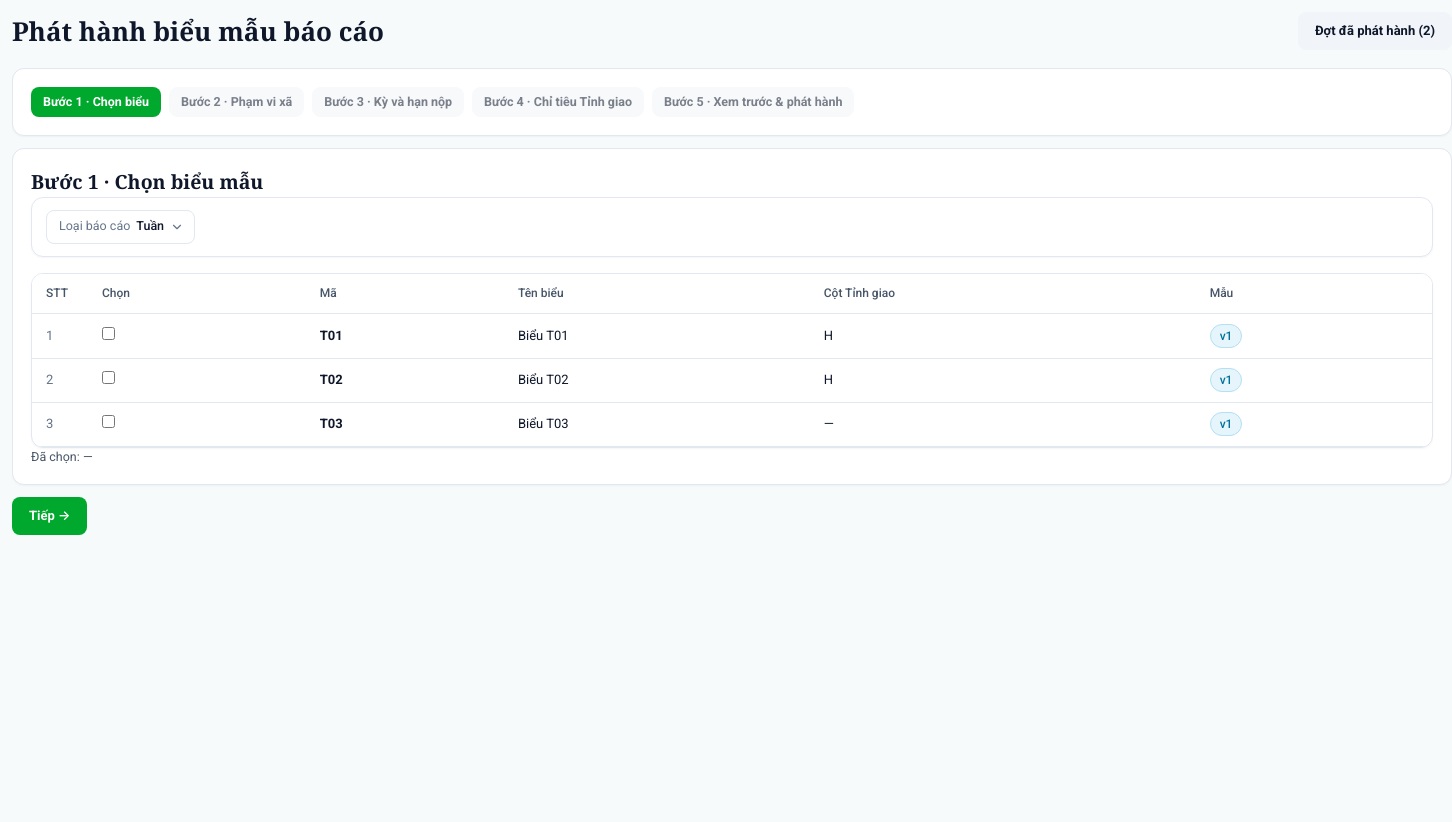
it: Phát hành biểu — wizard 5 bước (TT-14) › biểu không có cột Tỉnh giao: B4 báo không cần nhập
The width and height of the screenshot is (1452, 822).
Click the checkbox named "Chọn T03" at (108, 422), box [102,415,115,428]
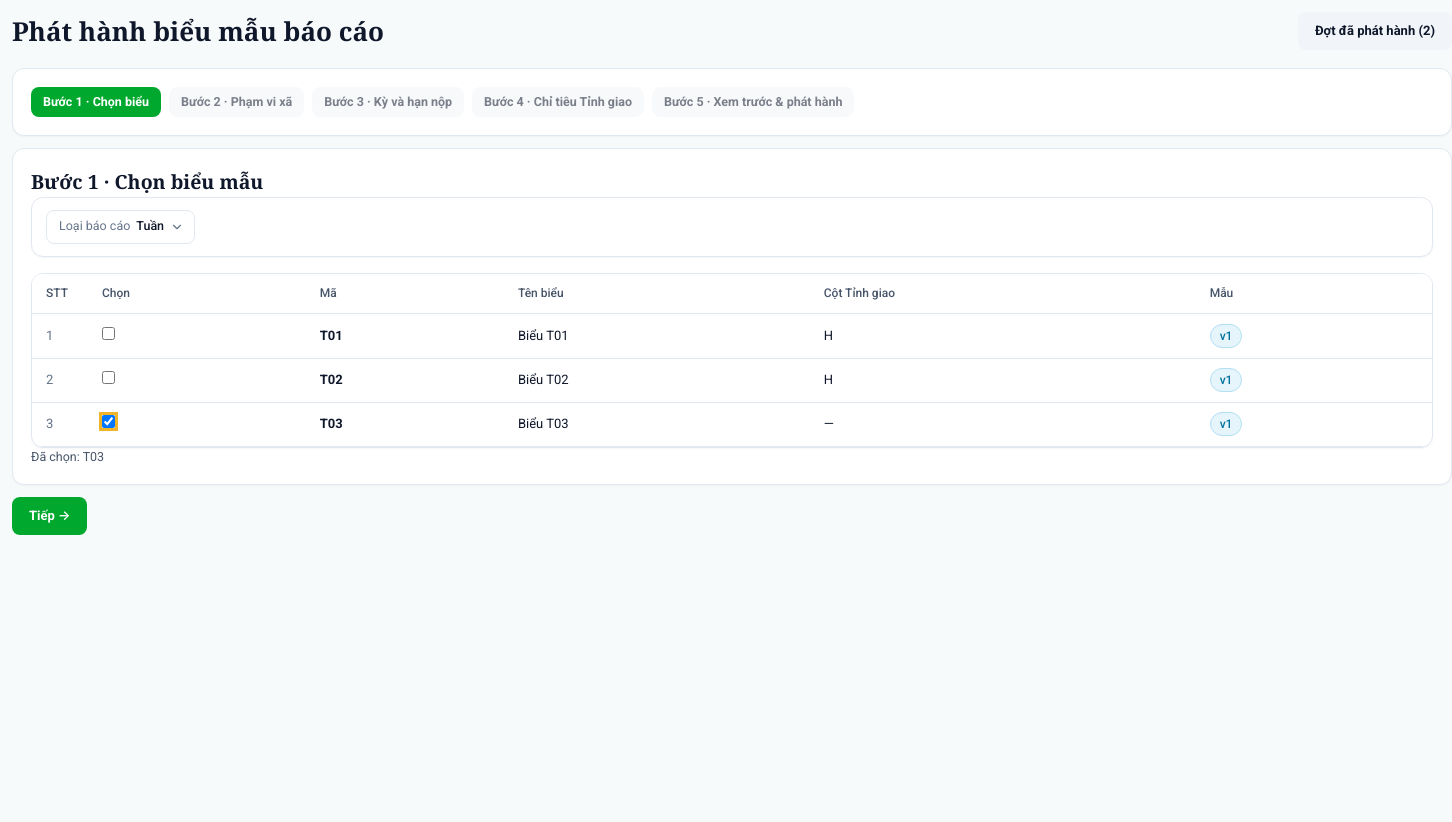
Click the button "Tiếp →" at (50, 516), box [12,497,88,535]
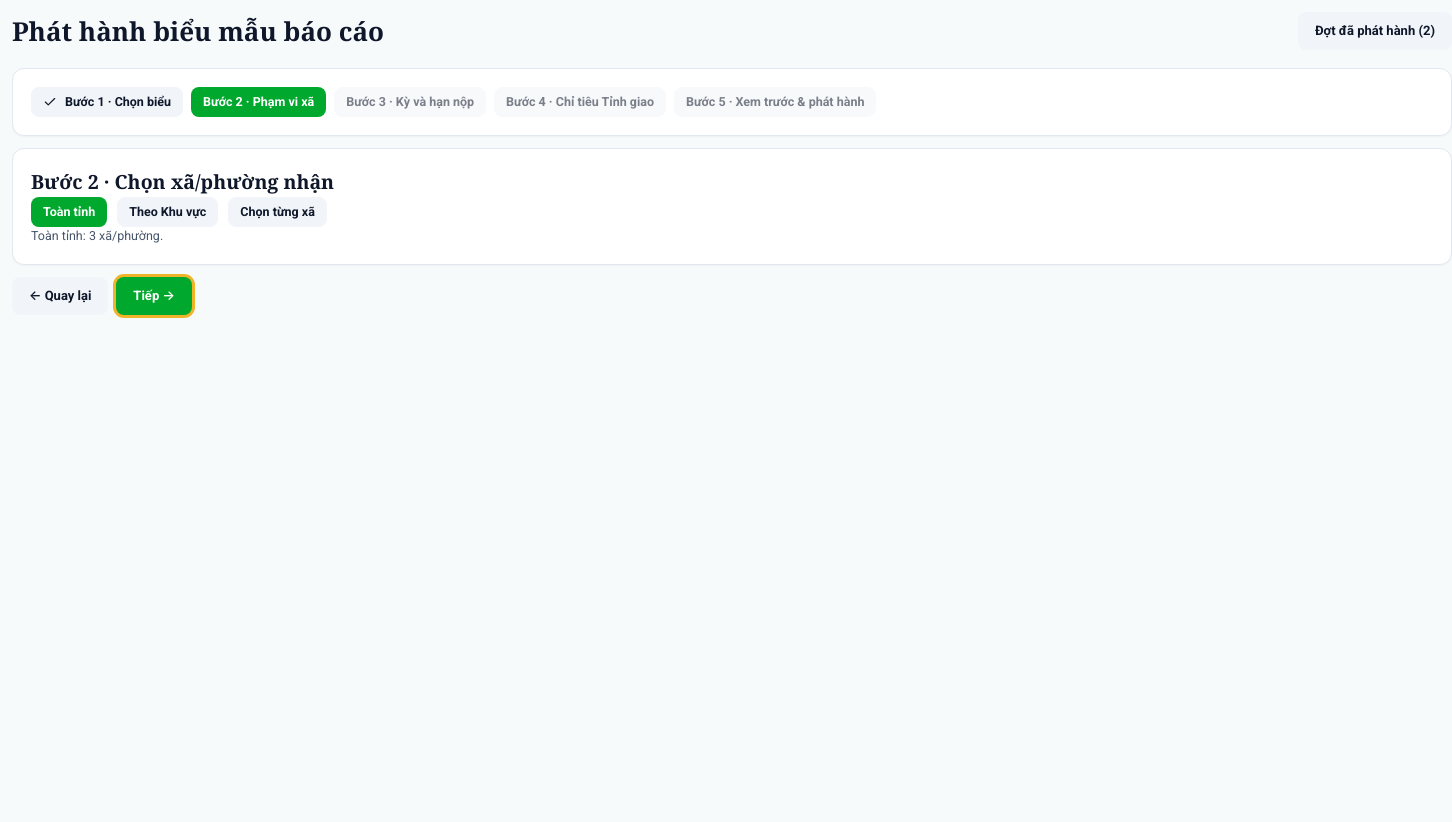
Now the text "Toàn tỉnh: 3 xã/phường." is shown, box [31,228,163,243]
Click the button "Tiếp →" at (154, 296), box [116,277,192,314]
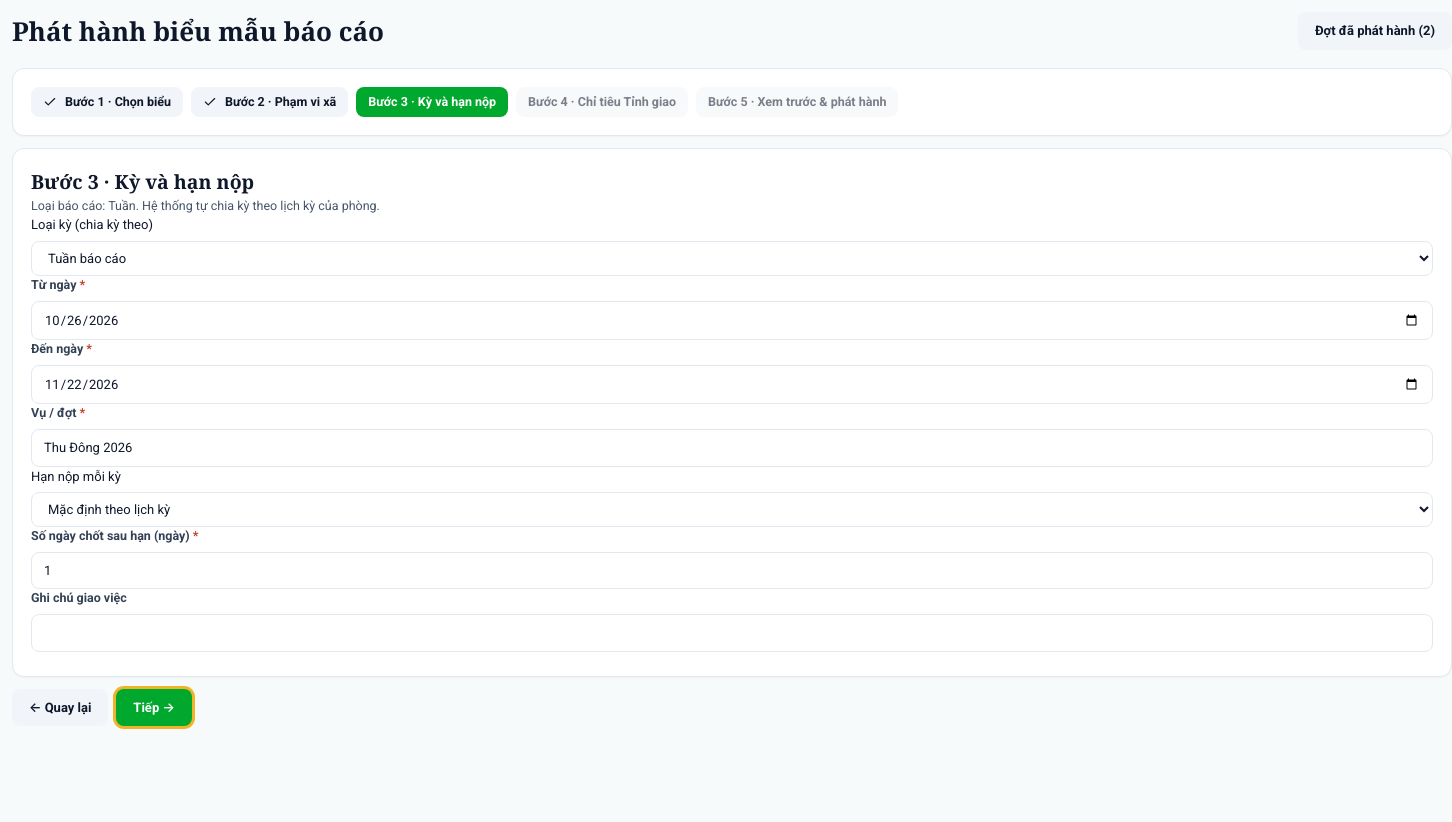
Click the button "Tiếp →" at (154, 707), box [116,688,192,726]
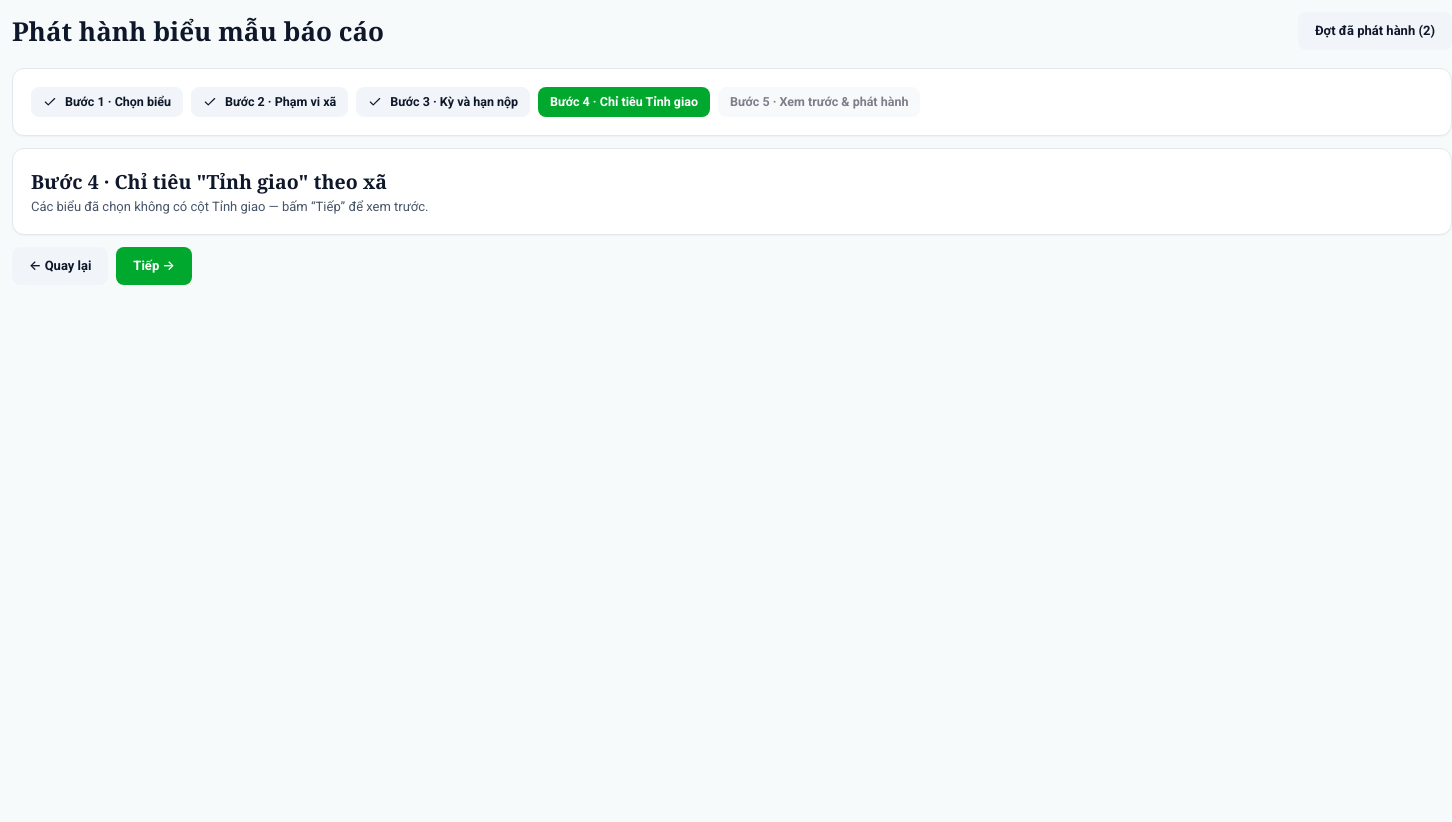
Now the text "không có cột Tỉnh giao" is shown, box [31,198,428,214]
